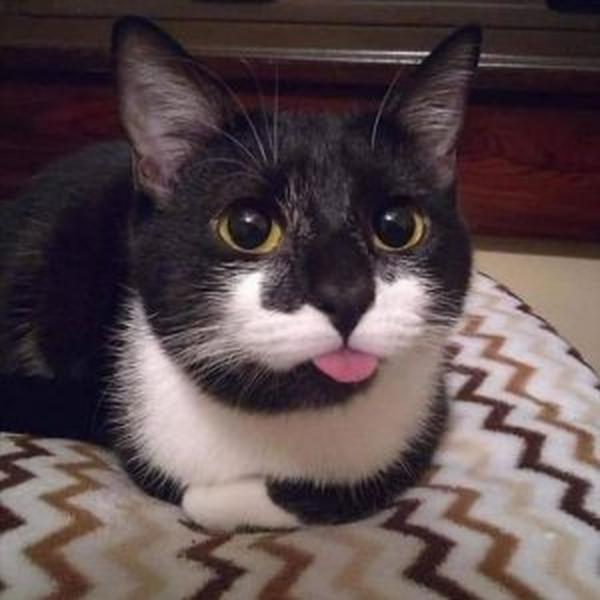michi: (1, 10, 492, 540)
